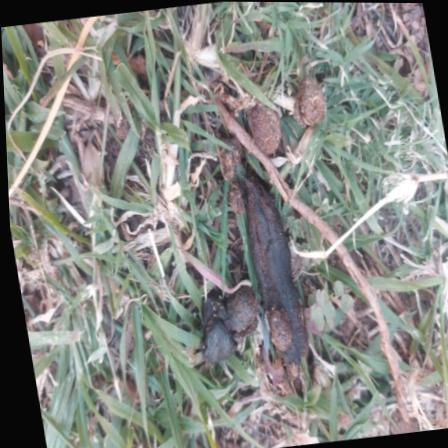dog-poop: (172, 157, 311, 391)
